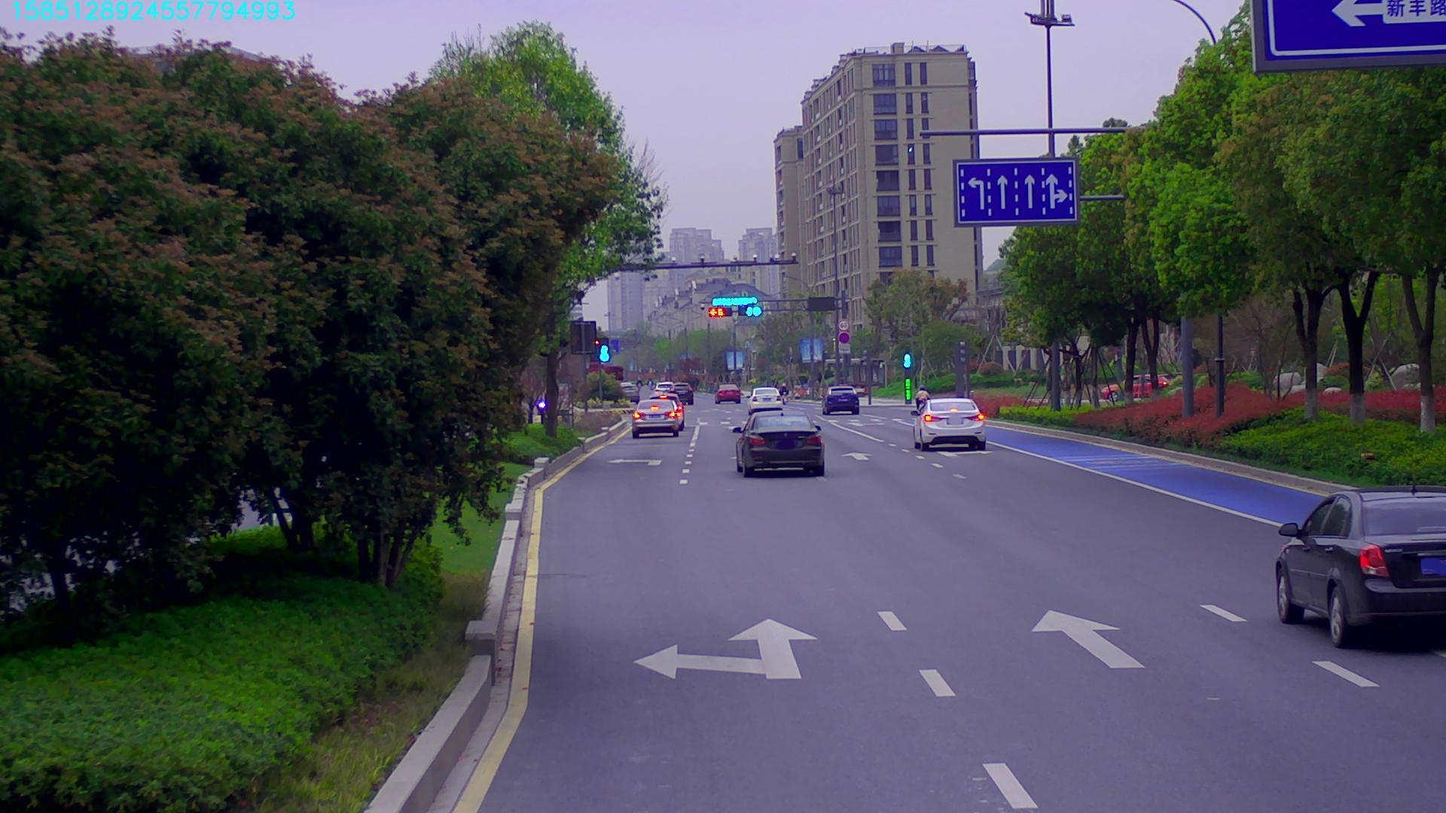green: (737, 306, 760, 317)
red: (709, 304, 729, 317)
wait_on: (707, 293, 758, 306)
